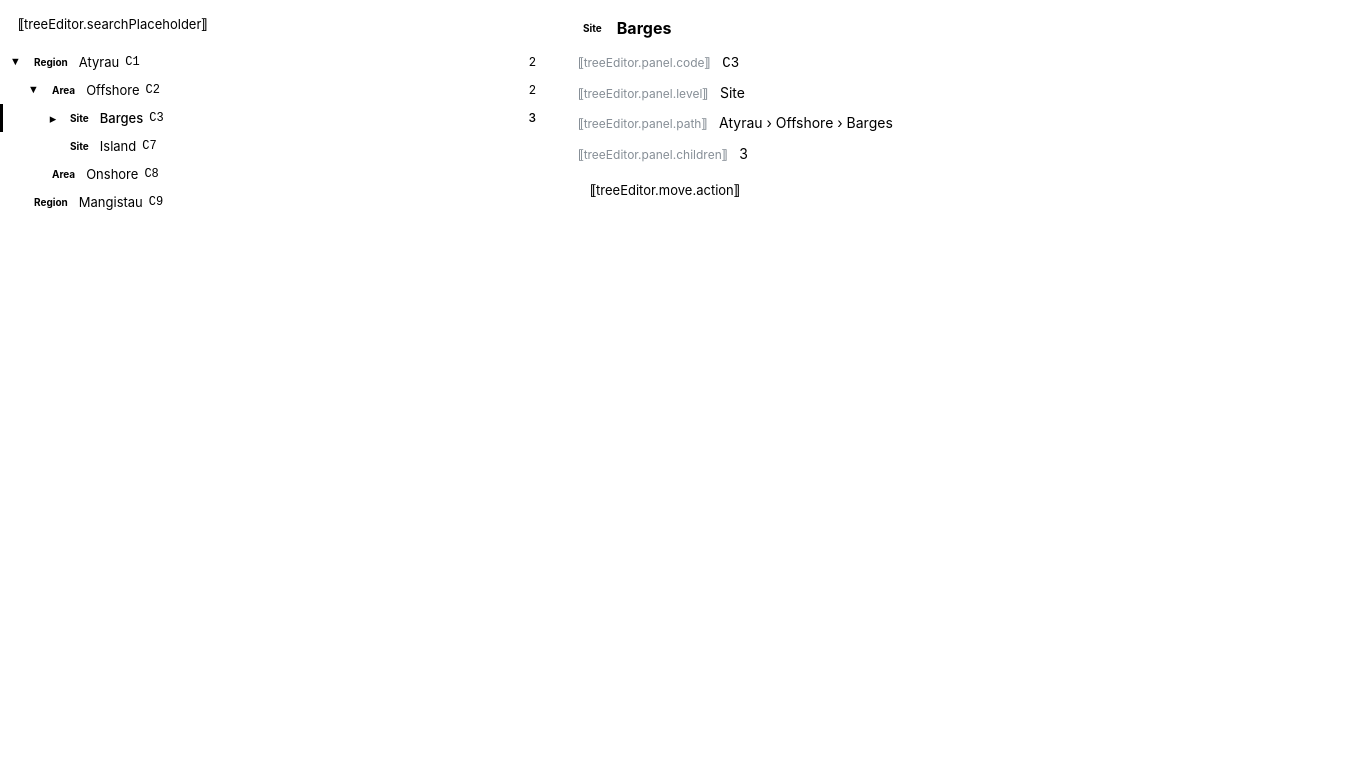
TreeEditor: перенос › кнопка панелі «Перенести» відкриває той самий діалог
The image size is (1366, 768).
Click the button with test id "tree-panel-move" at (665, 190), box [578,176,752,204]
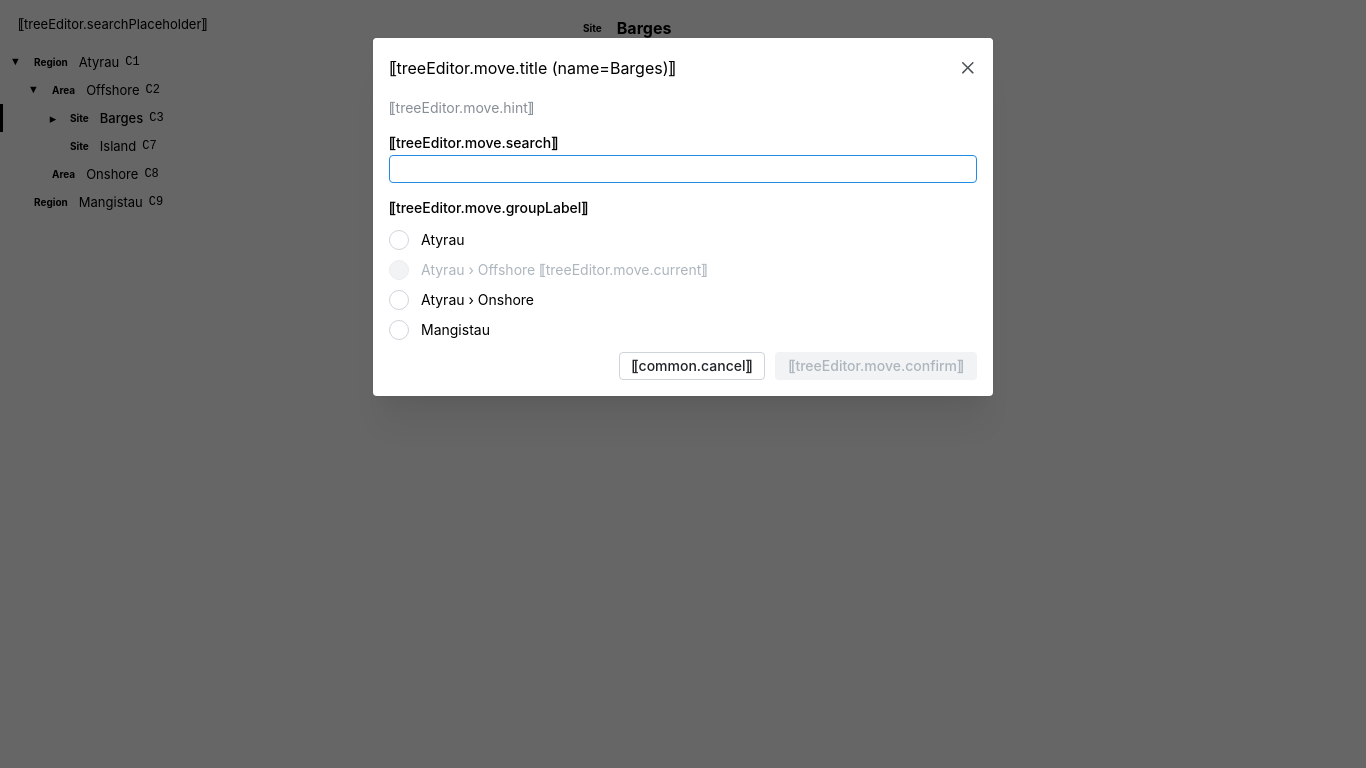
Expected: the element with test id "tree-move-dialog" is shown, [389,98,977,380]
